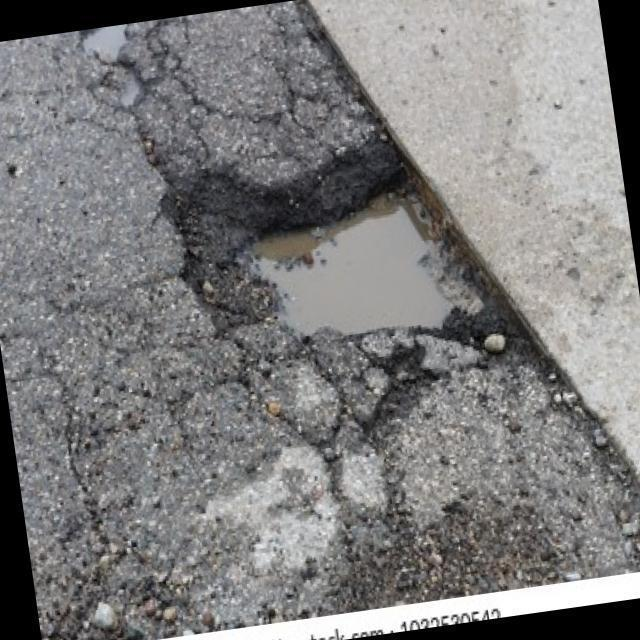pothole: (154, 131, 518, 385)
